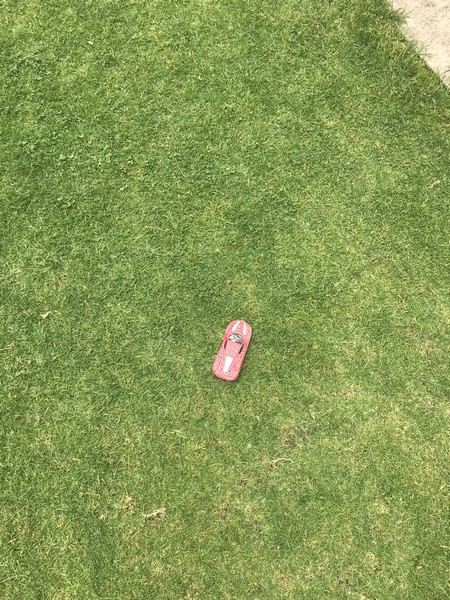RC: (210, 319, 257, 383)
